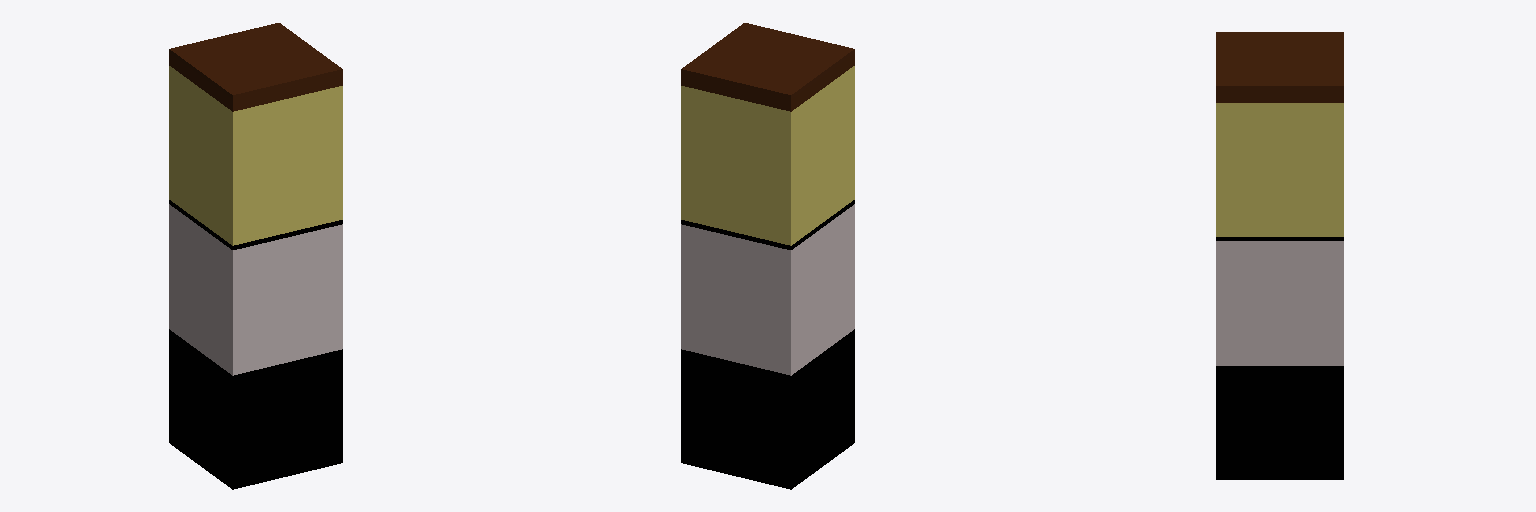
File: waiter1.obj
3 renders of one model, left to right at view 1: azimuth 30°, elevation 25°; view 2: azimuth 150°, elevation 25°; view 3: azimuth 270°, elevation 25°, orthographic.
Parts seen in each view (by area): view 1: Waiter_Cube.013; view 2: Waiter_Cube.013; view 3: Waiter_Cube.013.
Part boxes in pixels (left/top/right/bottom): Waiter_Cube.013: left=169, top=23, right=342, bottom=489; Waiter_Cube.013: left=681, top=23, right=854, bottom=489; Waiter_Cube.013: left=1216, top=32, right=1343, bottom=479.
Size of the model in its own units: 0.1569 by 0.5374 by 0.1568.